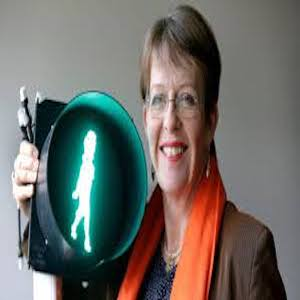green: (59, 125, 106, 254)
